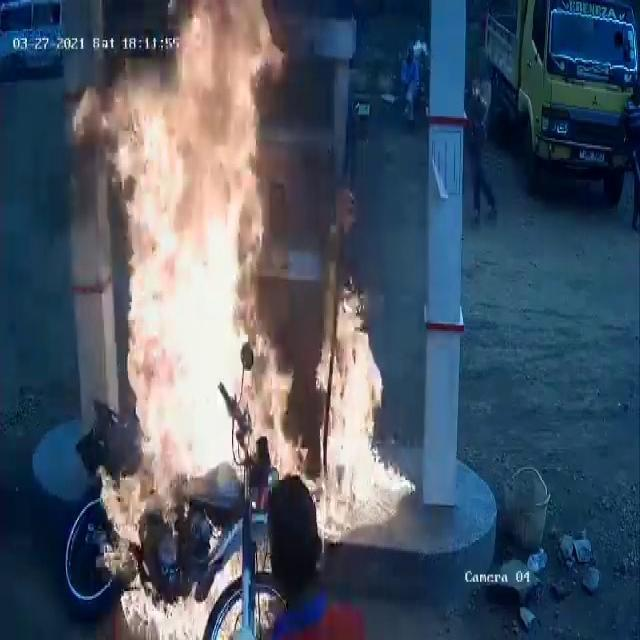Fire: (102, 0, 302, 480), (308, 281, 422, 543), (98, 459, 252, 640)
